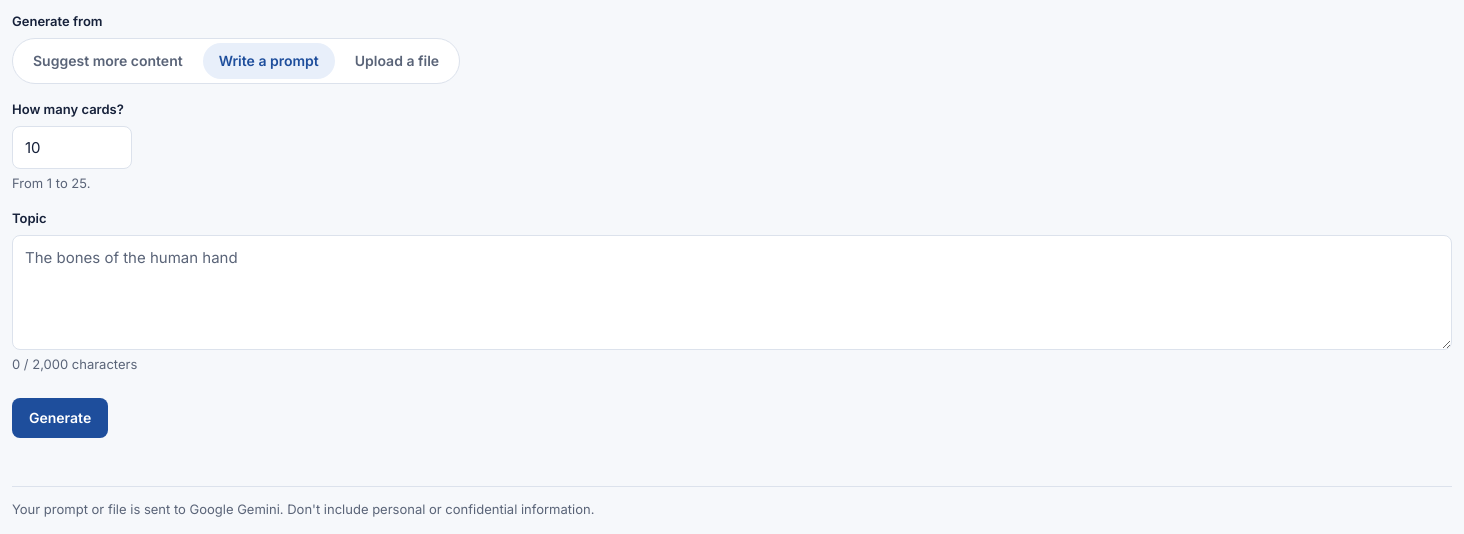
Scenario: typing in a field clears its error
Click the button "Generate": (60,418) [12,398,108,438]
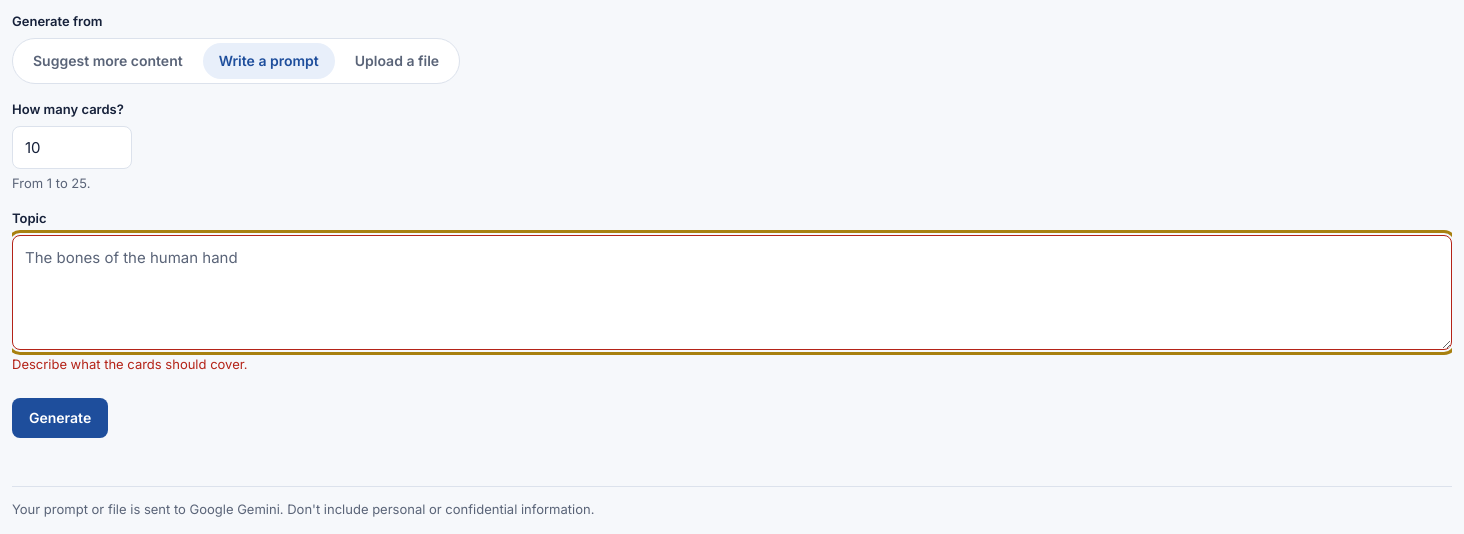
Check: the text "Describe what the cards should cover." is shown, box [12,356,248,372]
In the text box labelled "Topic": (732,293) [12,235,1452,350], type "Cells"
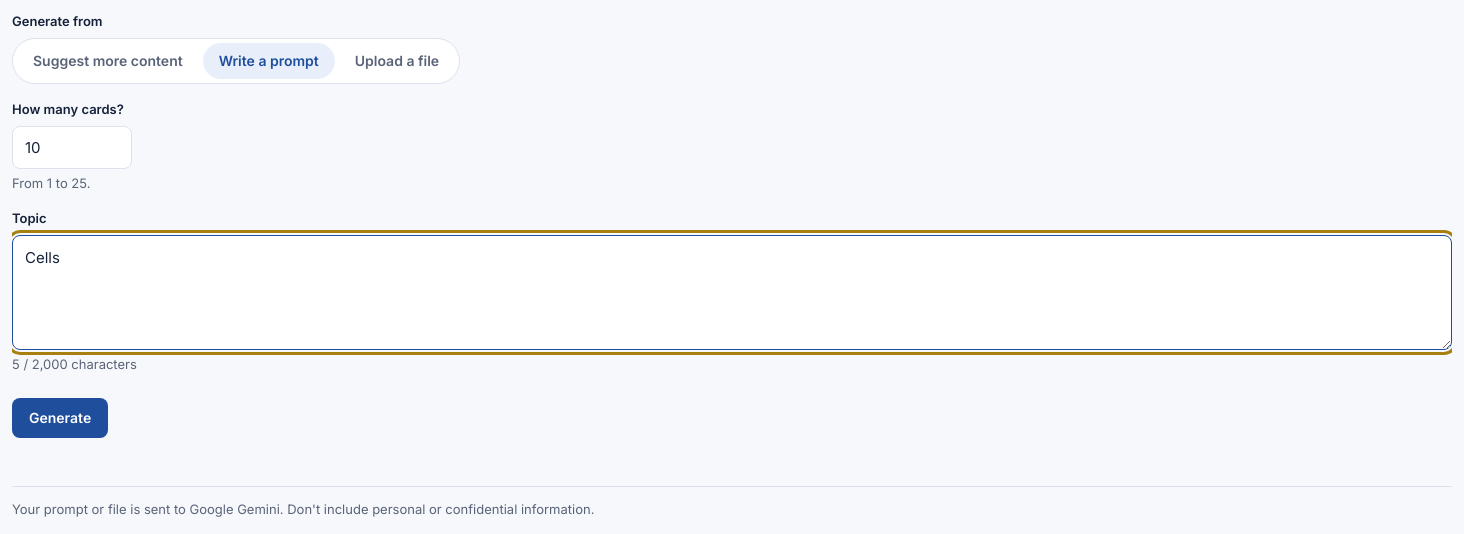
Check: the text "Describe what the cards should cover." is gone
